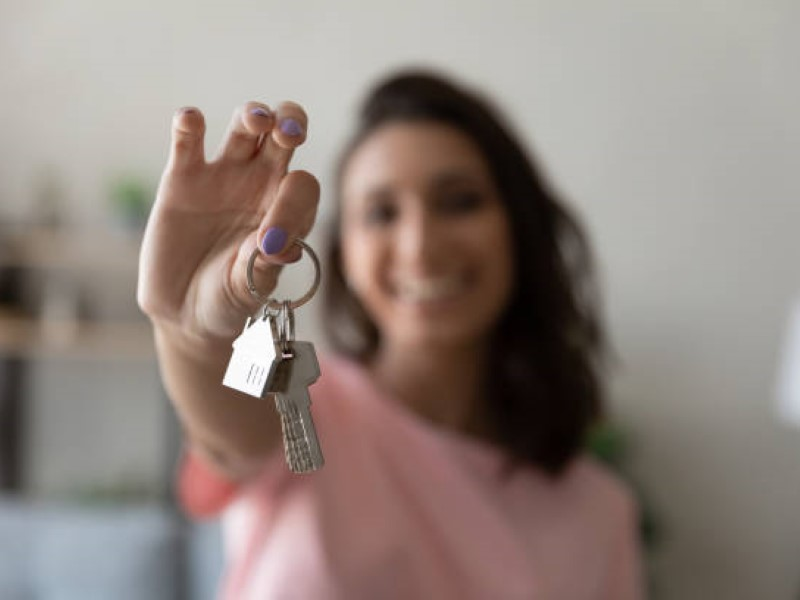key: (252, 337, 328, 472)
